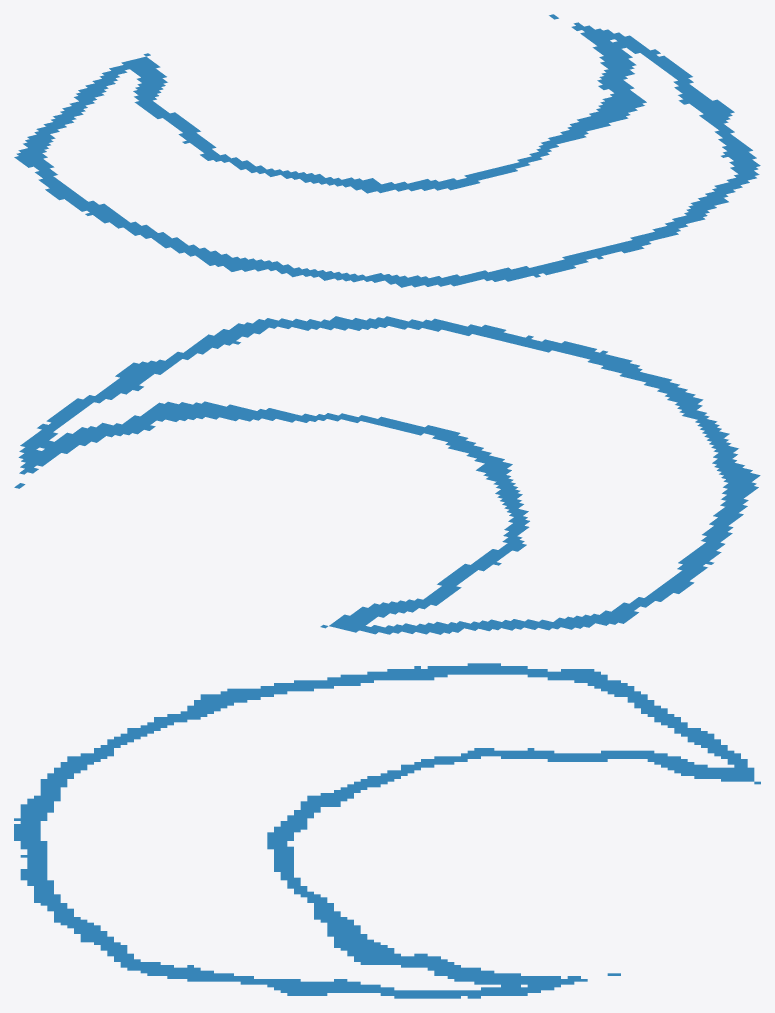
Rendered from Isl-crescent1-PlaceForWaterObjects.fbx.
3 renders of one model, top to bottom at view 1: azimuth 30°, elevation 25°; view 2: azimuth 150°, elevation 25°; view 3: azimuth 270°, elevation 25°, orthographic. The views are drawn at different scales.
Parts seen in each view (by area): view 1: Isl-crescent1-PlaceForWaterObjects; view 2: Isl-crescent1-PlaceForWaterObjects; view 3: Isl-crescent1-PlaceForWaterObjects.
Boxes of the visible parts, x1,y1,x2,y2 form: Isl-crescent1-PlaceForWaterObjects: [14, 14, 760, 287]; Isl-crescent1-PlaceForWaterObjects: [14, 316, 760, 634]; Isl-crescent1-PlaceForWaterObjects: [14, 663, 760, 998].
Bounding box in the file's own units: 119 × 0 × 112.
